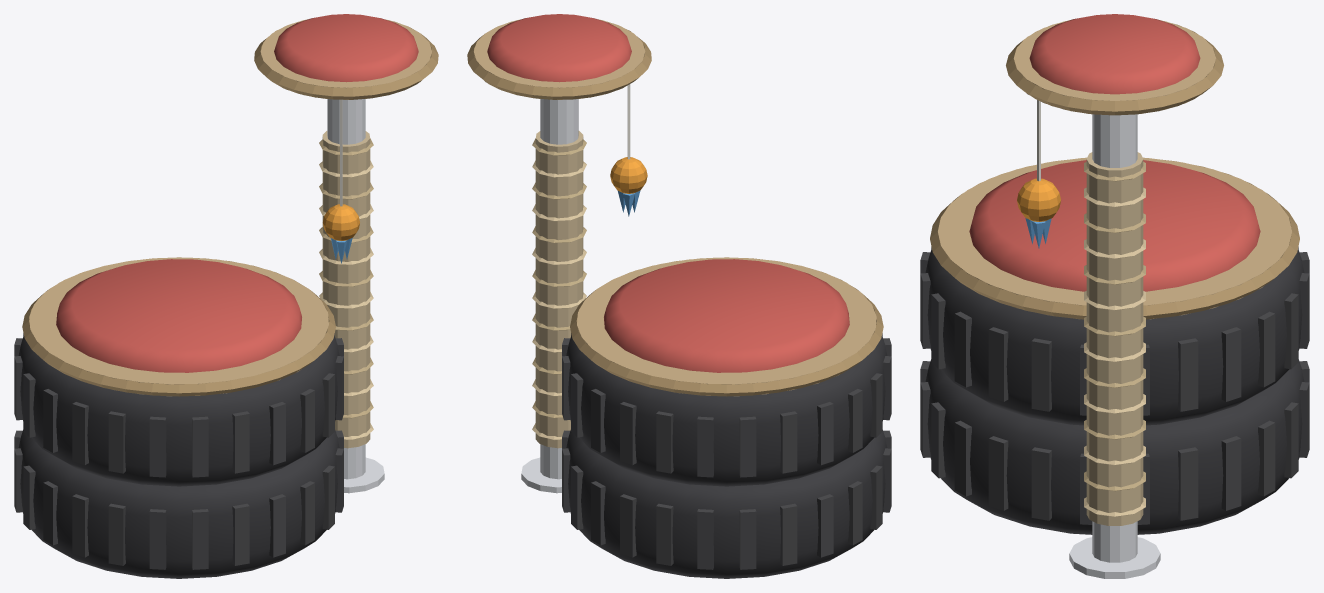
Rendered from cat_tower.glb.
3 renders of one model, left to right at view 1: azimuth 30°, elevation 25°; view 2: azimuth 150°, elevation 25°; view 3: azimuth 270°, elevation 25°, orthographic. The views are drawn at different scales.
Visible parts, largest first — view 1: cat_tower; view 2: cat_tower; view 3: cat_tower.
Boxes of the visible parts, left/top/right/bottom form: cat_tower: left=14, top=14, right=438, bottom=578; cat_tower: left=467, top=14, right=891, bottom=578; cat_tower: left=920, top=14, right=1309, bottom=578.
Size of the model in its own units: 1.05 by 1.13 by 0.7683.
